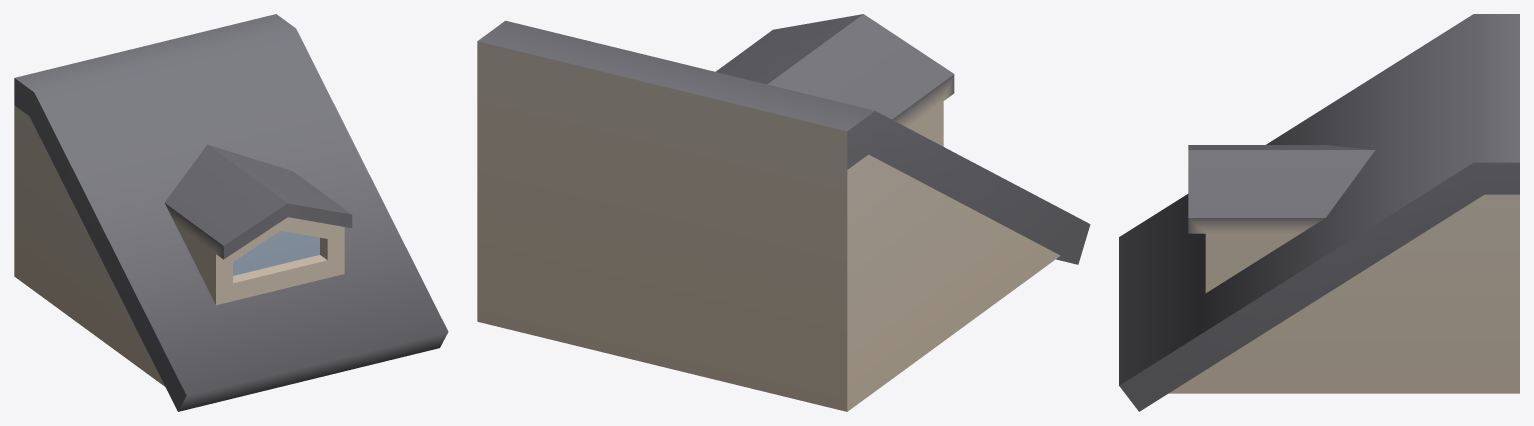
File: roof-slanted-window.glb
The picture shows the model from 3 angles, left to right: view 1: azimuth 30°, elevation 25°; view 2: azimuth 150°, elevation 25°; view 3: azimuth 270°, elevation 25°; orthographic projection. The views are drawn at different scales.
Parts seen in each view (by area): view 1: roof-slanted-window; view 2: roof-slanted-window; view 3: roof-slanted-window.
Boxes of the visible parts, x1,y1,x2,y2 form: roof-slanted-window: (14,14,448,411); roof-slanted-window: (477,14,1090,411); roof-slanted-window: (1119,14,1519,411).
Size of the model in its own units: 1 by 0.782 by 1.14.
